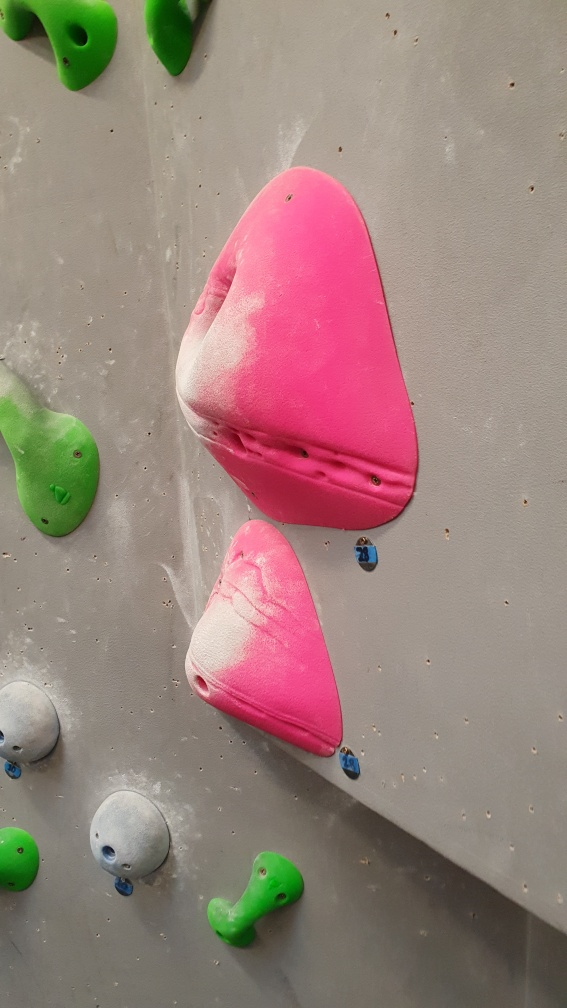Hand Start: (347, 530, 384, 577), (339, 743, 363, 786), (111, 876, 138, 900), (4, 761, 26, 780)
Pocket: (177, 163, 419, 529)
Sloper: (84, 784, 172, 885), (1, 681, 64, 767)
